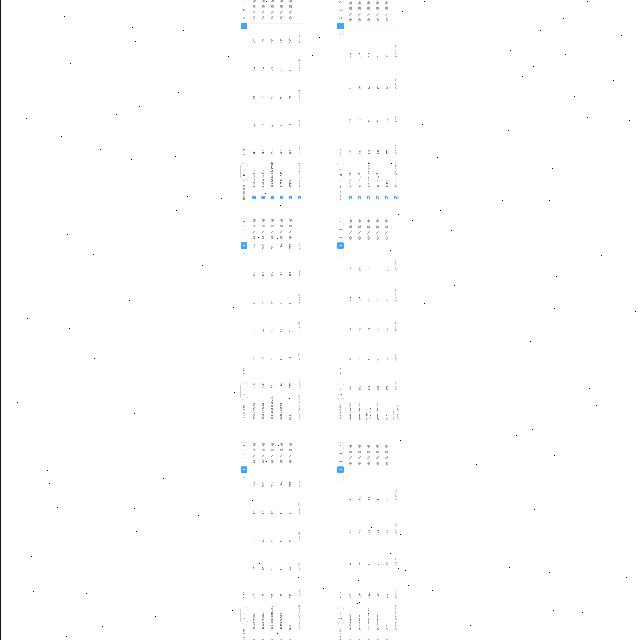VDataTable: (333, 214, 399, 423), (237, 214, 303, 423), (332, 438, 400, 640), (334, 0, 401, 204), (237, 0, 303, 204), (238, 438, 302, 640)
